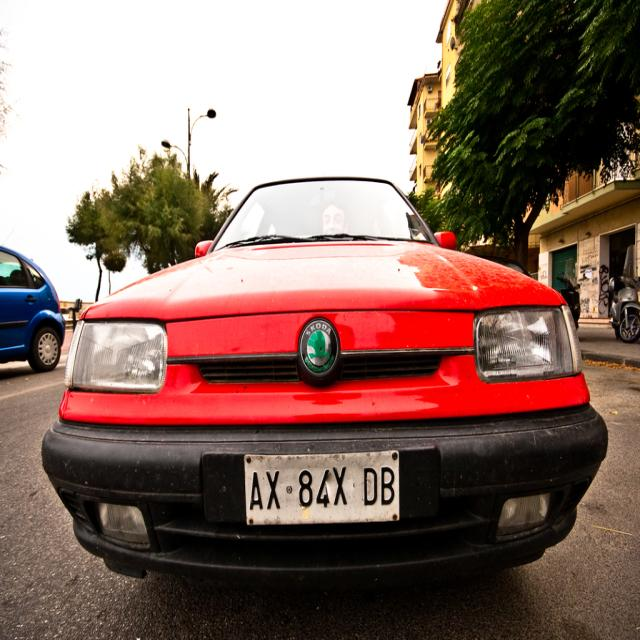car: (34, 170, 608, 589)
